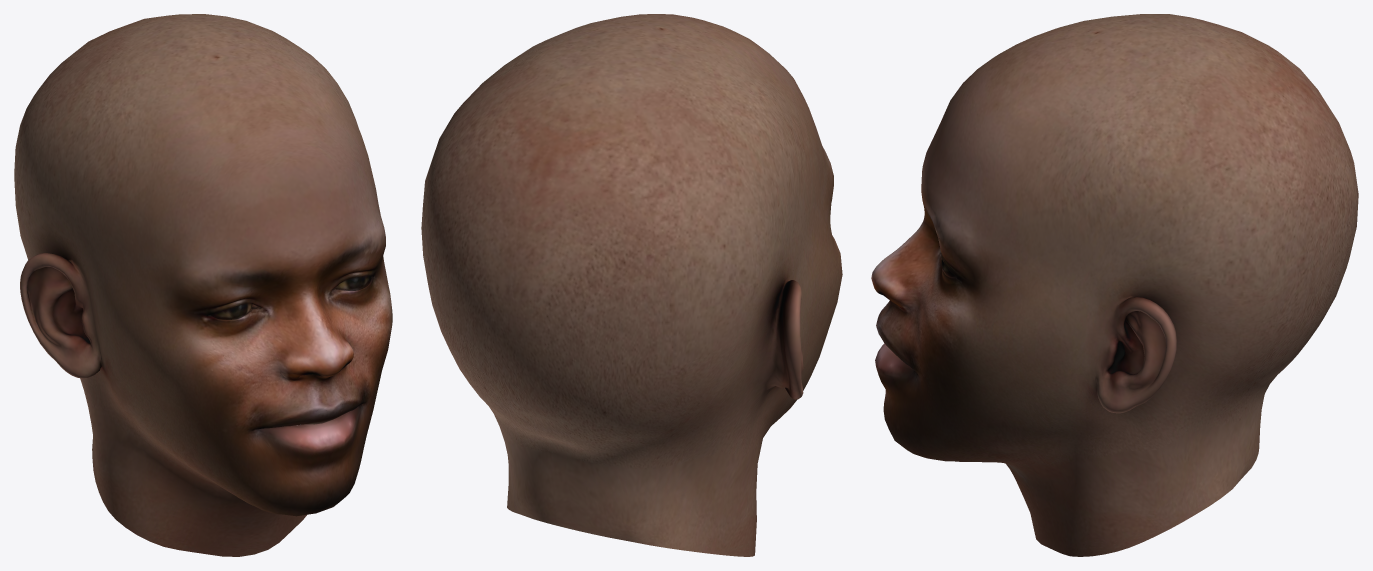
The model's file is head.fbx.
The picture shows the model from 3 angles, left to right: view 1: azimuth 30°, elevation 25°; view 2: azimuth 150°, elevation 25°; view 3: azimuth 270°, elevation 25°; orthographic projection. The views are drawn at different scales.
Visible parts, largest first — view 1: Head; view 2: Head; view 3: Head.
Part boxes in pixels (box(x1,y1,x2,y2)): Head: box(14, 14, 392, 556); Head: box(421, 14, 842, 556); Head: box(871, 14, 1358, 556).
Bounding box in the file's own units: 0.1941 × 0.2664 × 0.2351.
1 material, 1 textured.
